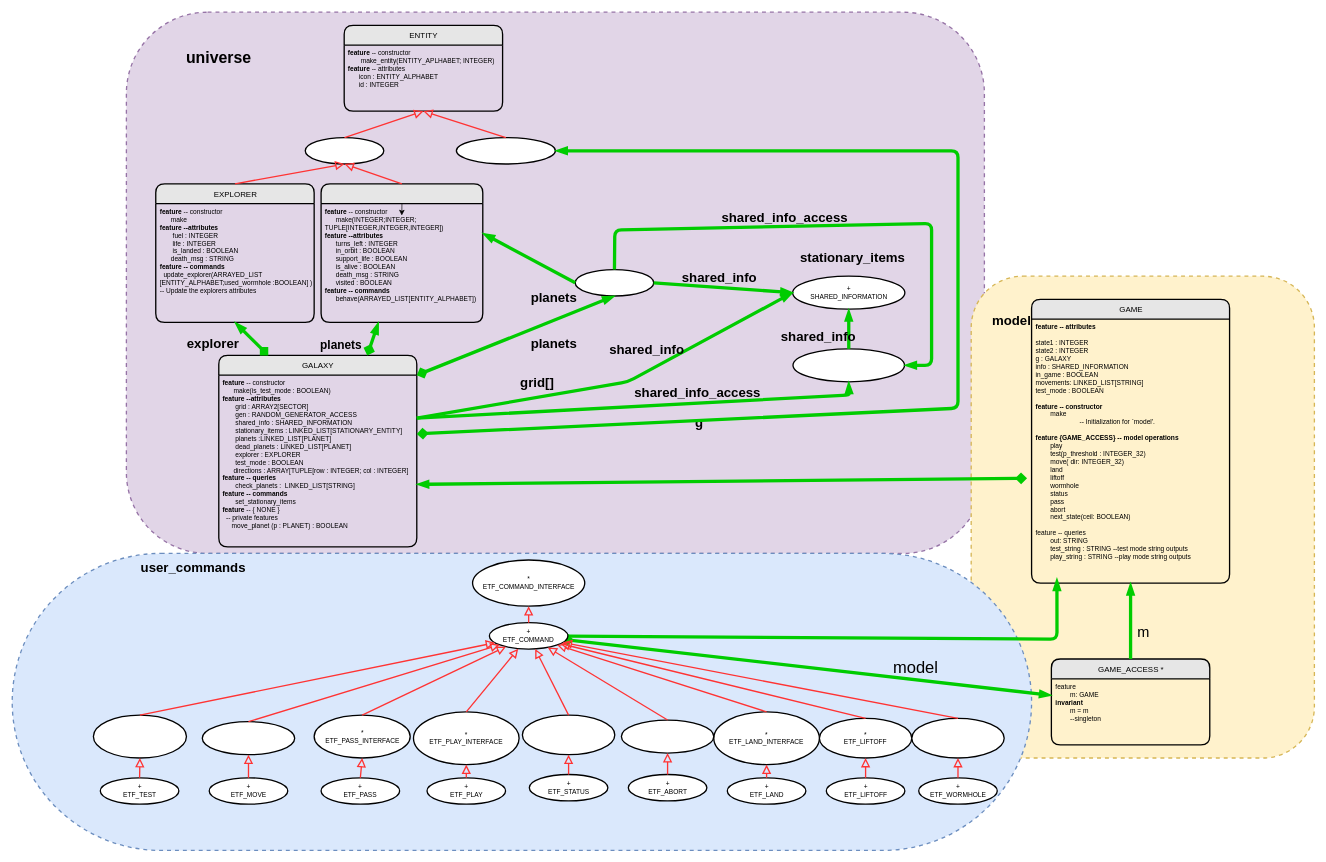
Some shapes in this 1326 by 862 pixel diagram are drawn without their labels. The shapes that lost their labels are listed below. From the top down, each one's box as (x1, y1, x2, y2) in pixels, then its label:
(304, 137, 384, 164): + MOVABLE_ENTITY
(455, 137, 556, 164): + STATIONARY_ENTITY
(320, 183, 483, 323): PLANET
(574, 269, 654, 296): + SECTOR
(792, 348, 905, 382): + SHARED_INFORMATION_ACCESS
(92, 714, 187, 758): * ETF_TEST_INTERFACE
(201, 721, 295, 755): * ETF_MOVE_INTERFACE
(521, 714, 615, 755): * ETF_STATUS
(620, 719, 714, 753): * ETF_ABORT_INTERFACE
(911, 717, 1005, 758): * ETF_WORMHOLE
